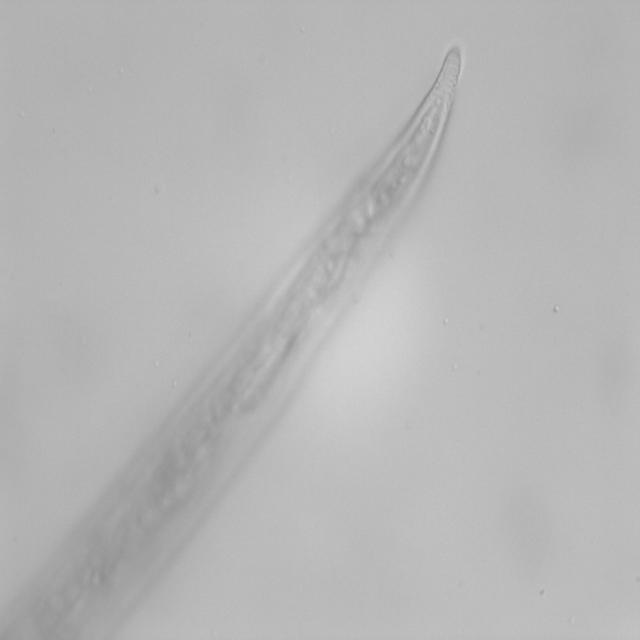Radopholus: (356, 39, 474, 220)
